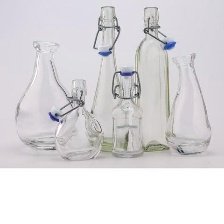bottle: (10, 37, 79, 153), (85, 2, 131, 153), (132, 4, 173, 154), (165, 51, 218, 158), (52, 76, 104, 164), (109, 65, 151, 161)
